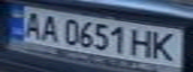0: (60, 16, 81, 47)
1: (109, 25, 130, 55)
5: (90, 21, 112, 52)
6: (75, 19, 96, 49)
A: (18, 8, 45, 39), (36, 12, 60, 43)
H: (127, 26, 157, 59)
K: (148, 29, 181, 63)
